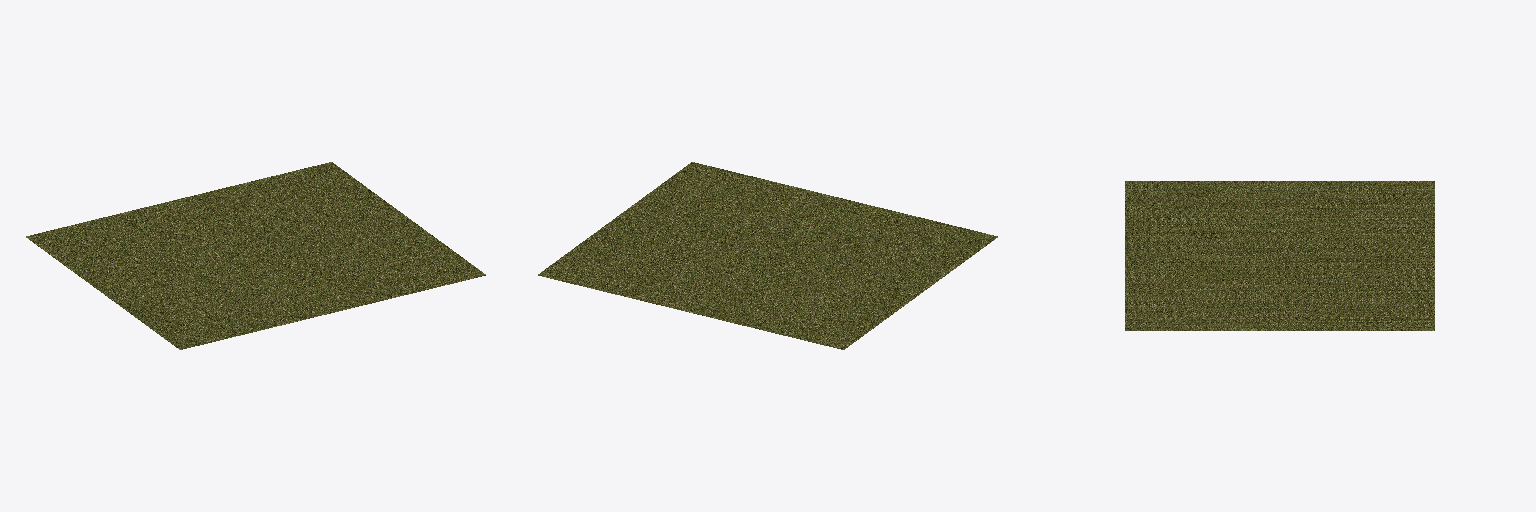
3 views of the same model, side by side, from view 1: azimuth 30°, elevation 25°; view 2: azimuth 150°, elevation 25°; view 3: azimuth 270°, elevation 25° (orthographic).
Visible parts, largest first — view 1: map_resized:pPlane1; view 2: map_resized:pPlane1; view 3: map_resized:pPlane1.
Part boxes in pixels (x1,y1,x2,y2): map_resized:pPlane1: (26,162,485,349); map_resized:pPlane1: (538,162,997,349); map_resized:pPlane1: (1125,181,1434,330).
Bounding box in the file's own units: 831 × 0 × 728.
Materials: 1 (1 with a texture image).